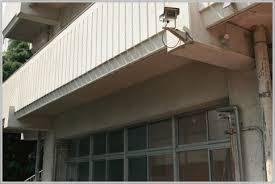tutu: (156, 4, 181, 34)
